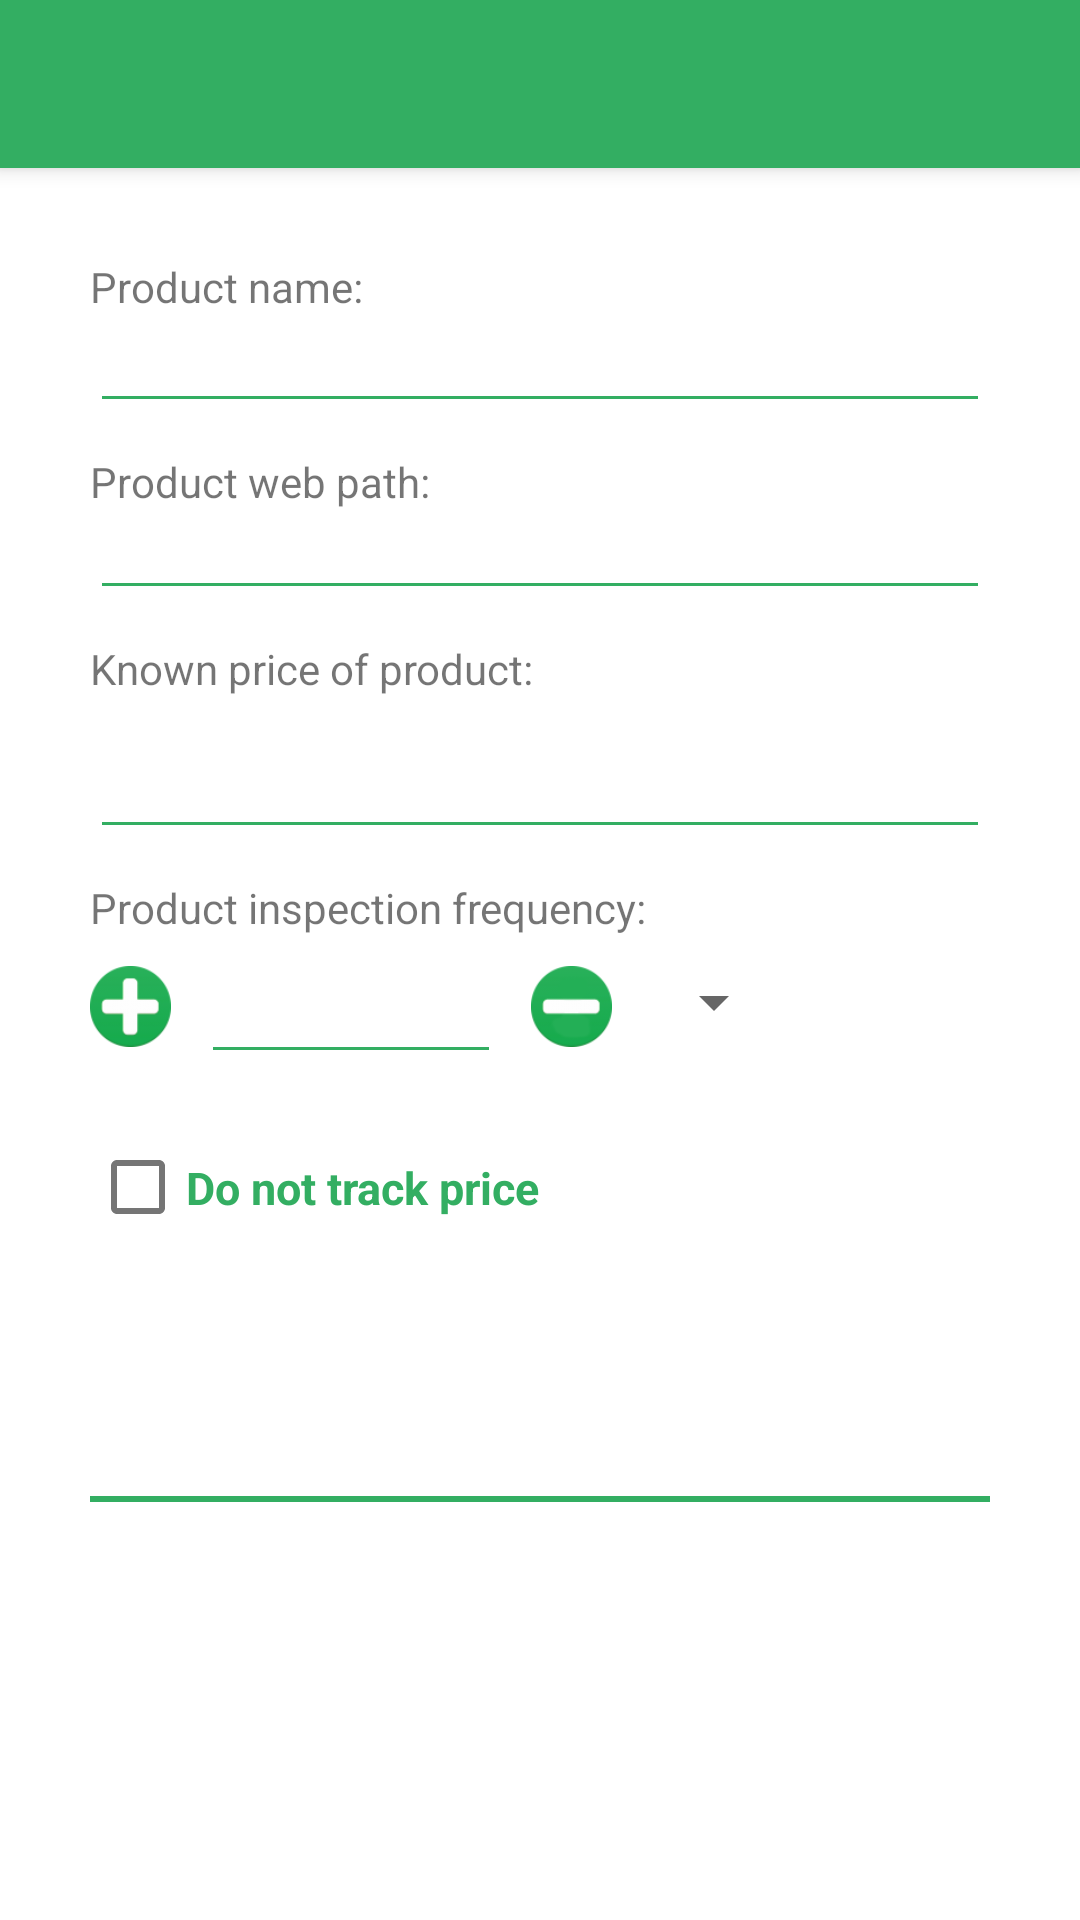

Locate icon controls on the screen. Image size 1080×1920, boxes as bbox=[x1, y1, x2, y2].
minus: bbox=[531, 966, 612, 1047]
plus: bbox=[90, 966, 171, 1047]
